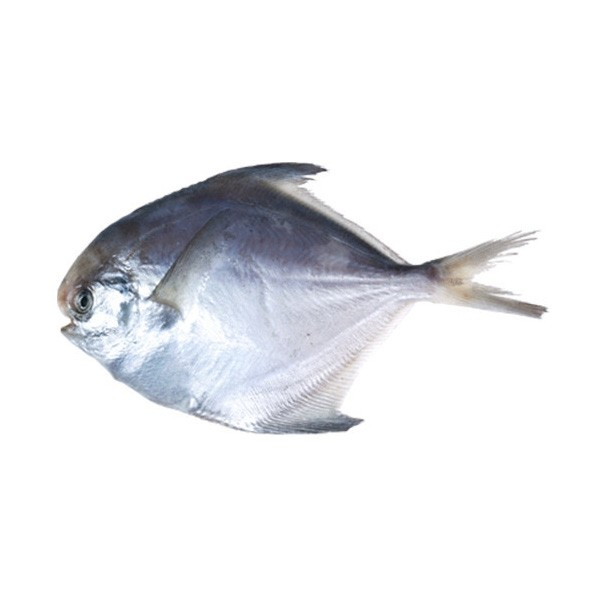Pomfret: (51, 156, 551, 442)
